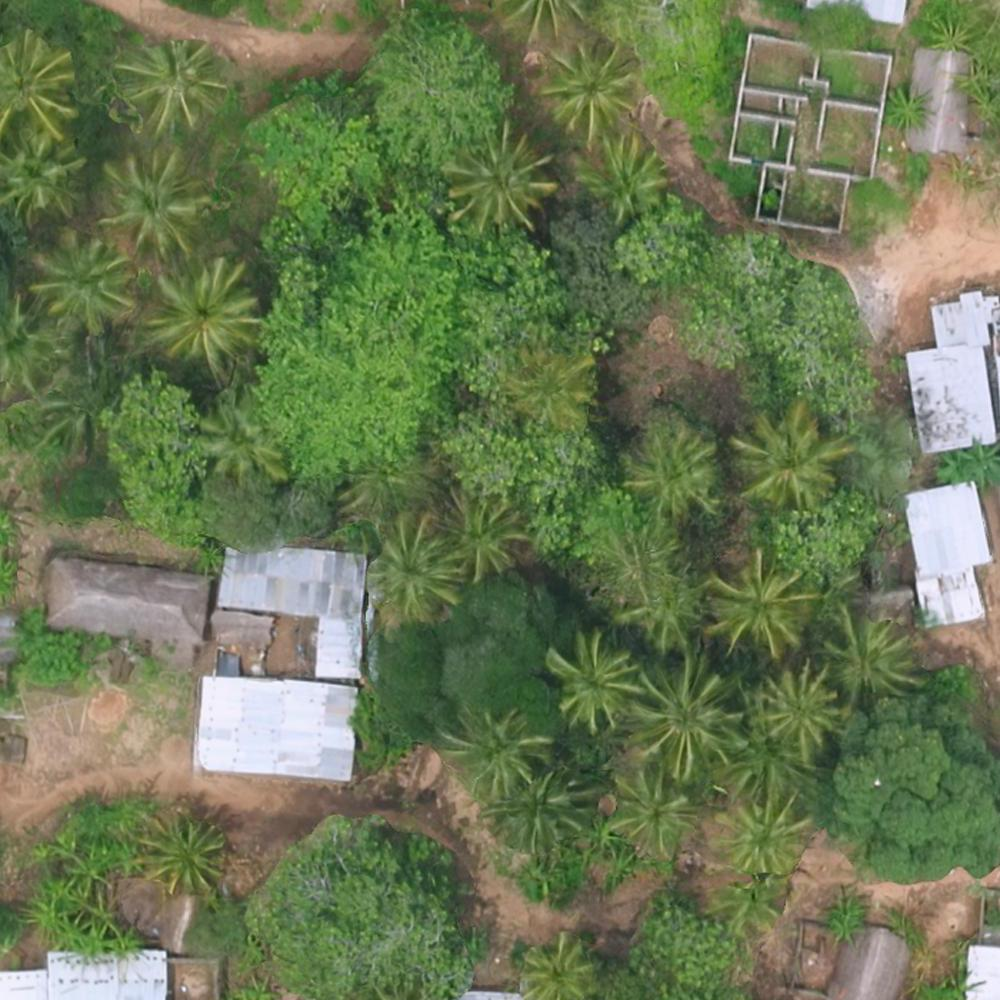Palm: (632, 657, 742, 771), (98, 150, 212, 250), (733, 406, 841, 506), (118, 32, 225, 129), (150, 262, 254, 357), (450, 123, 549, 221), (31, 228, 132, 324), (710, 554, 805, 654), (602, 764, 699, 857), (442, 707, 543, 796), (543, 36, 637, 130), (545, 633, 642, 724), (369, 513, 461, 607), (828, 609, 922, 697), (435, 486, 525, 576), (750, 662, 840, 751), (1, 37, 81, 133), (628, 419, 713, 508), (717, 796, 809, 878), (2, 134, 80, 227), (582, 131, 666, 214), (519, 933, 602, 997)
